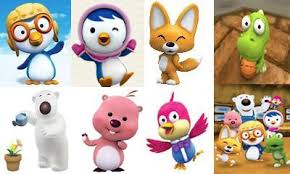Harry: (146, 89, 210, 171)
Loopy: (81, 90, 143, 173)
Petty: (71, 3, 139, 88)
Pororo: (4, 1, 66, 86)
